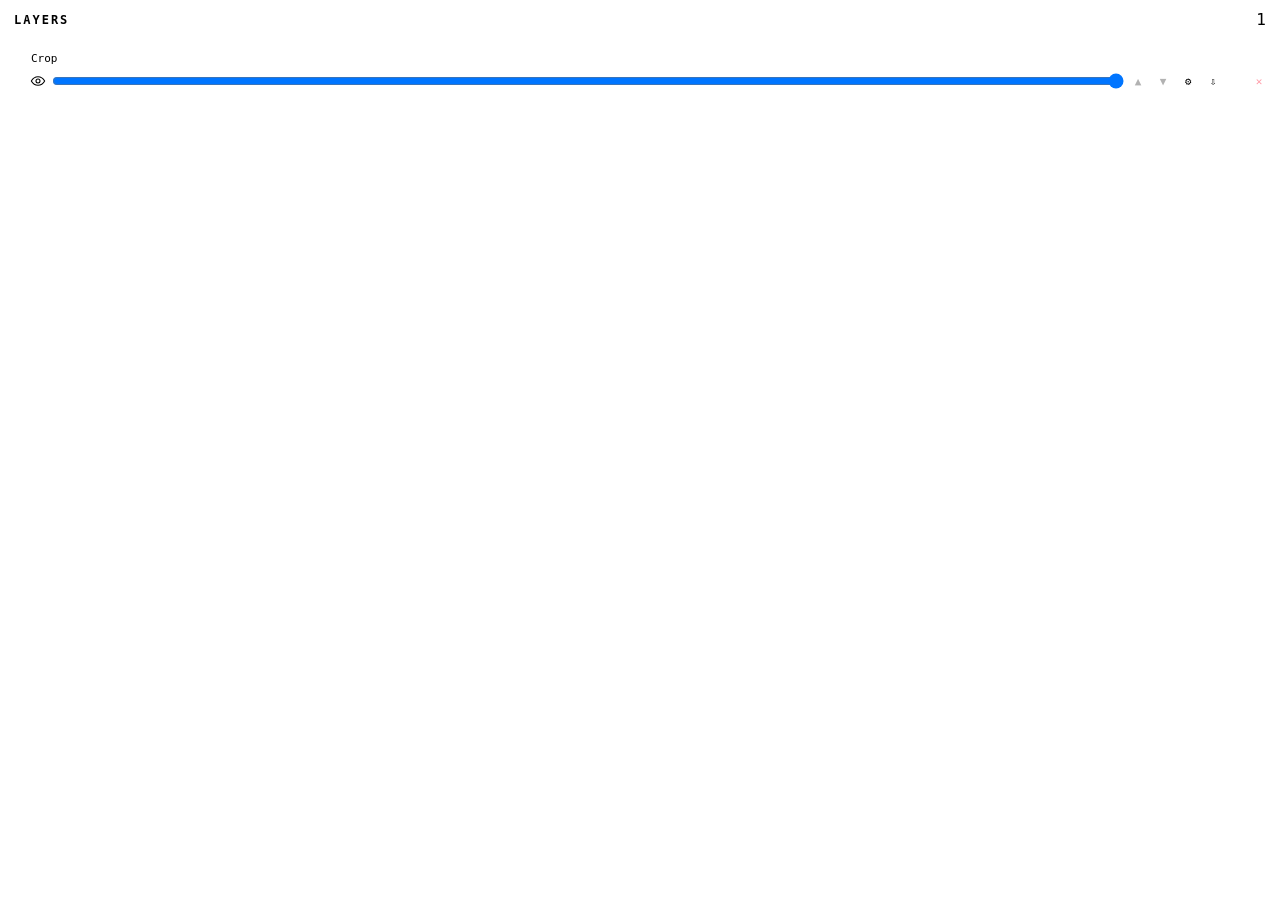
Test: the other entries are as they were › a layer that is not cut to its AOI starts on "Whole scene", with "Run as" for scenes of several passes
The width and height of the screenshot is (1280, 900).
Click the button "⚙" at (1188, 81), box [1177, 72, 1199, 90]
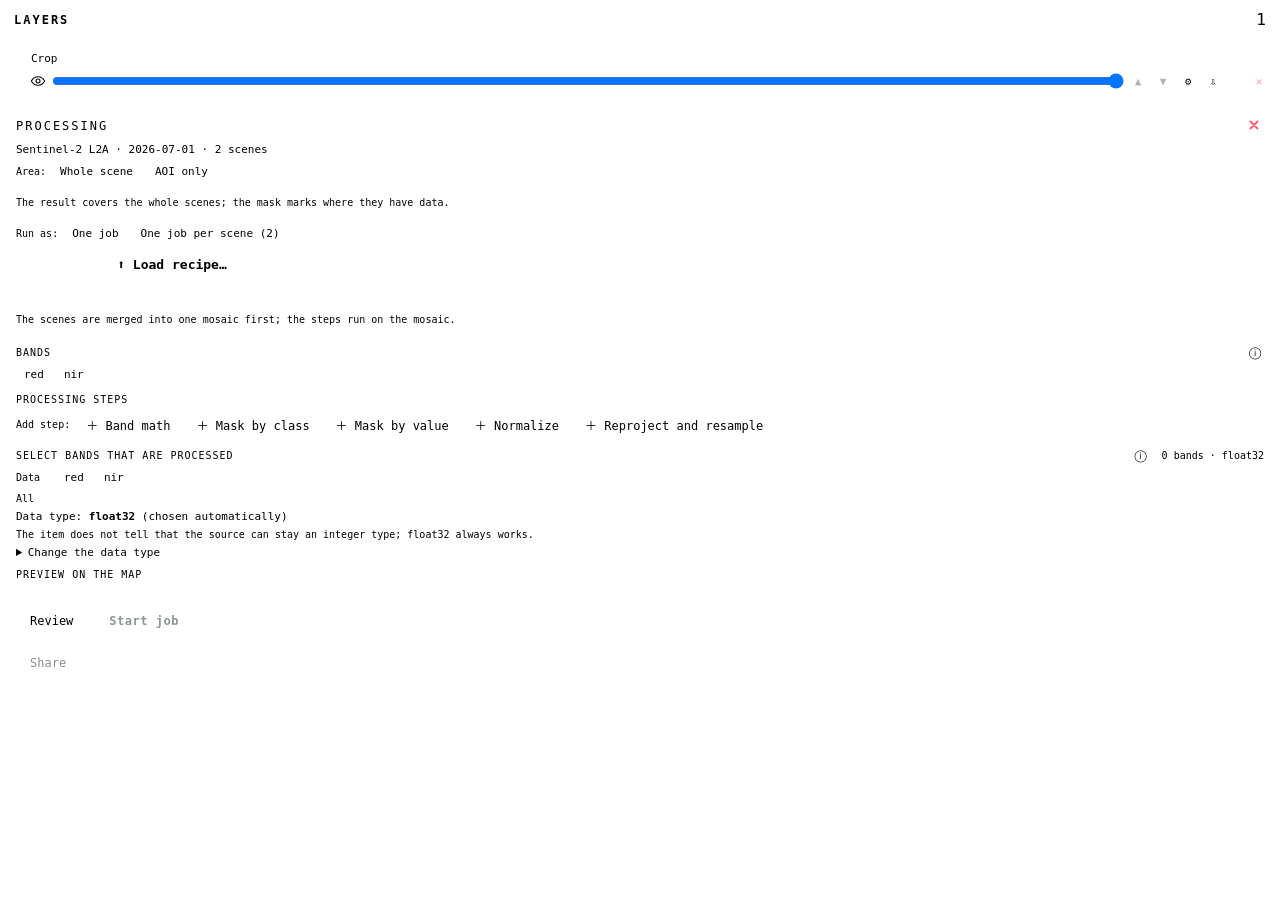
Expected: the button "Whole scene" is shown, [52, 162, 141, 181]
Expected: the element named "Run as" is shown, [16, 224, 288, 243]
